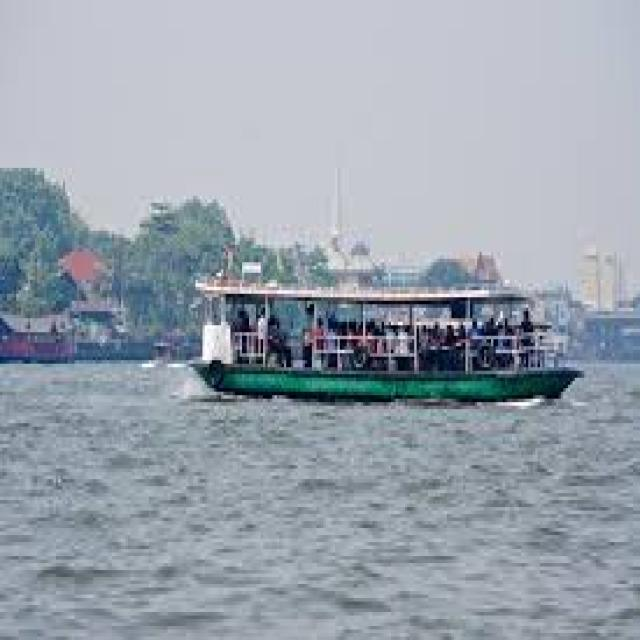passenger ship: (173, 230, 576, 403)
